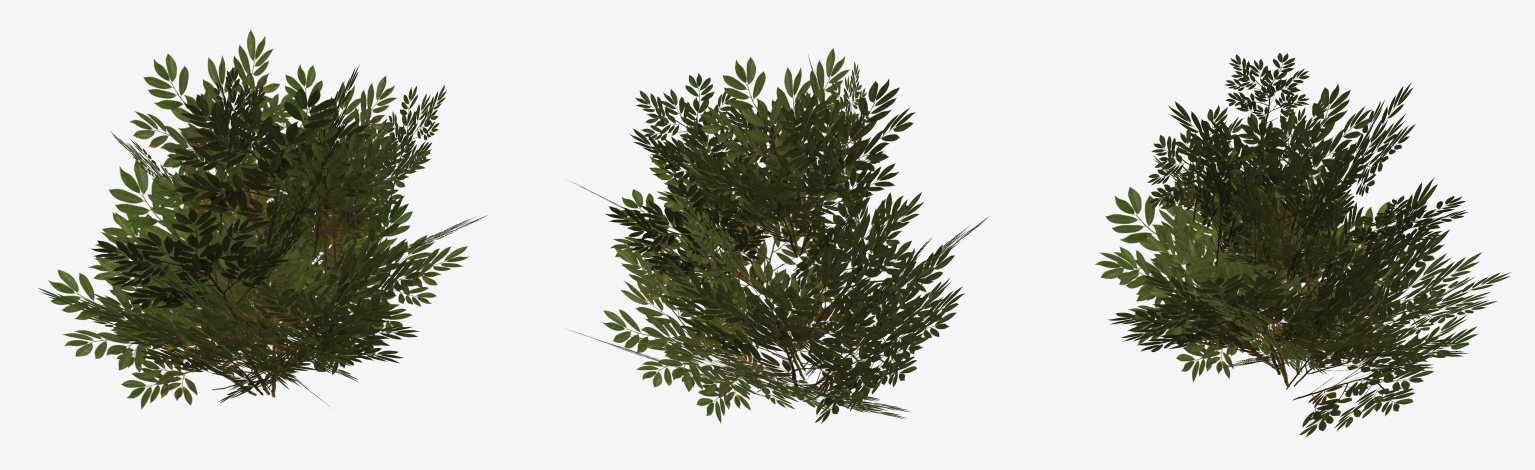
Rendered from bush5.glb.
3 views of the same model, side by side, from view 1: azimuth 30°, elevation 25°; view 2: azimuth 150°, elevation 25°; view 3: azimuth 270°, elevation 25° (orthographic). The views are drawn at different scales.
Visible parts, largest first — view 1: Bush29_Mesh; view 2: Bush29_Mesh; view 3: Bush29_Mesh.
Boxes of the visible parts, x1=… form: Bush29_Mesh: x1=38, y1=30, x2=487, y2=409; Bush29_Mesh: x1=568, y1=48, x2=989, y2=423; Bush29_Mesh: x1=1095, y1=53, x2=1511, y2=437.
Bounding box in the file's own units: 3.39 × 2.76 × 3.17.
Materials: 1 (1 with a texture image).
